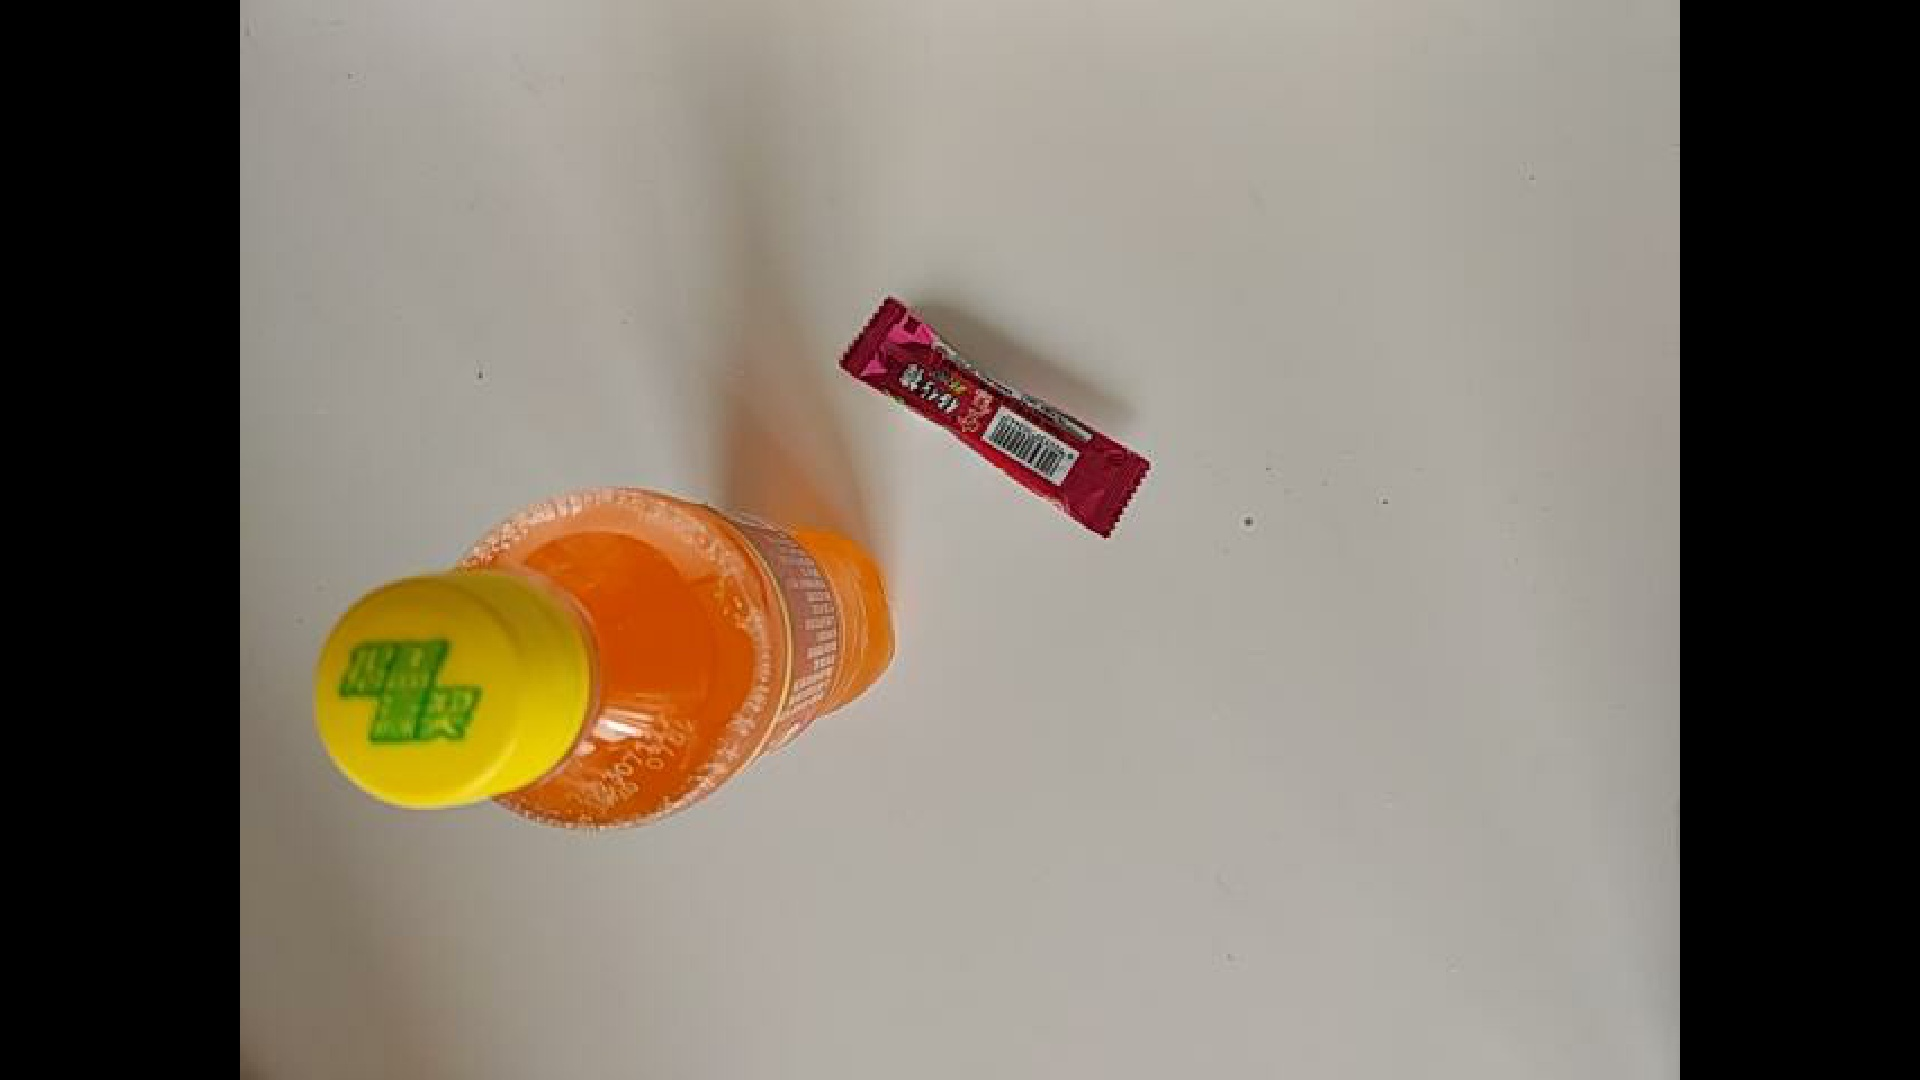fenta: (311, 485, 897, 832)
sugar: (793, 286, 1160, 467)
